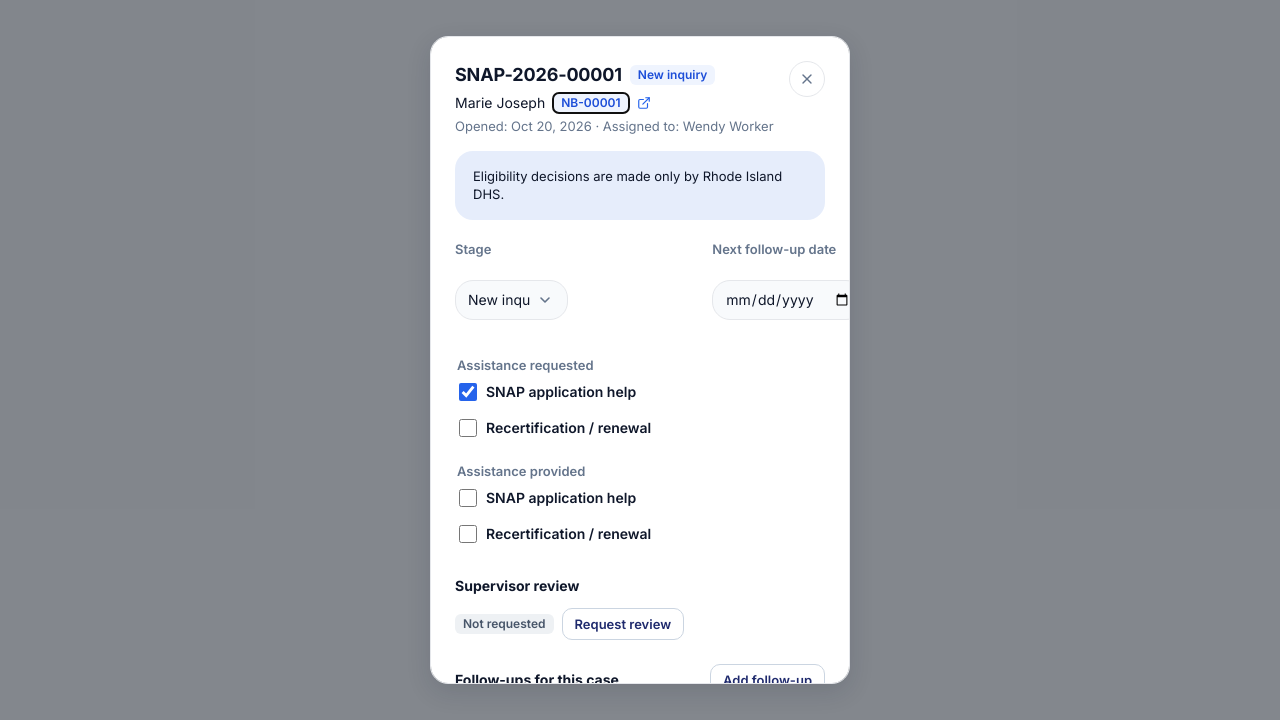
Test: SnapCaseDetail › blocks closing without a reason, then without supervisor approval
This screenshot has width=1280, height=720.
Select "Closed" in the dropdown labelled "Stage" at (511, 300), box [455,280,568,320]
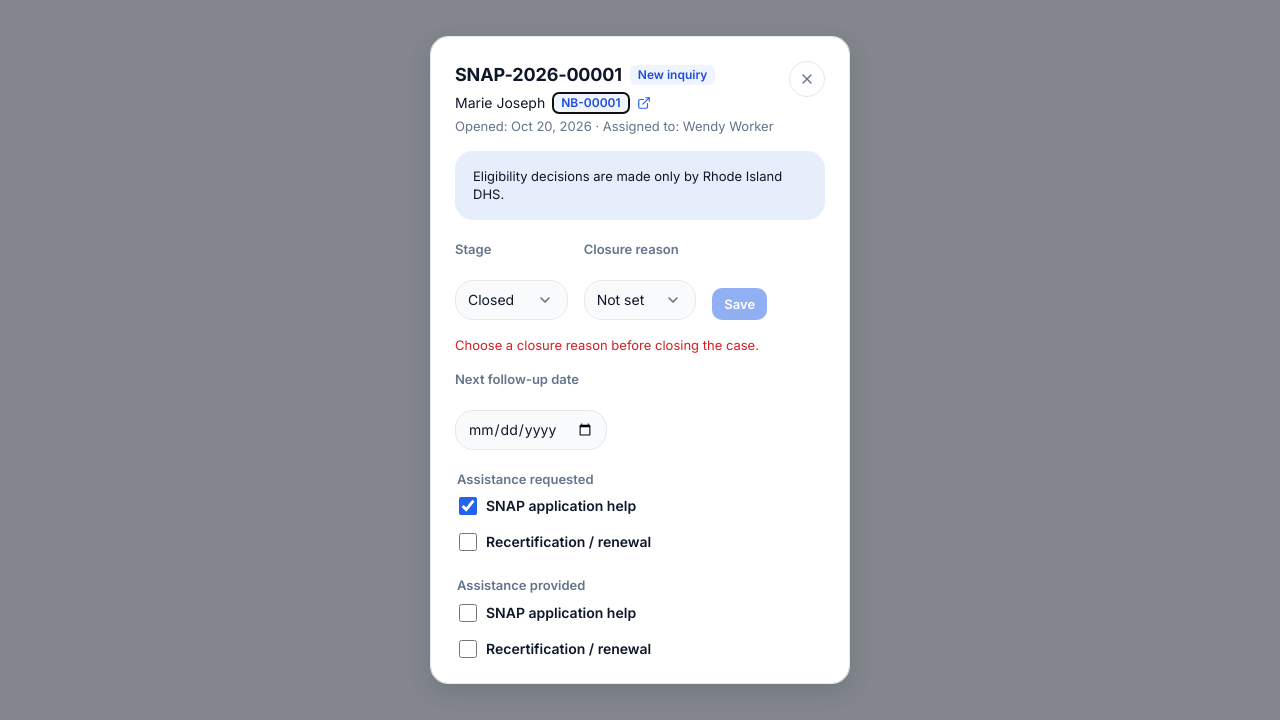
Check: the message reads "Choose a closure reason before closing the case.", box [455,337,759,353]
Check: the button "Save" is disabled, box [712,288,767,320]
Select "Assistance completed" in the dropdown labelled "Closure reason" at (640, 300), box [584,280,696,320]
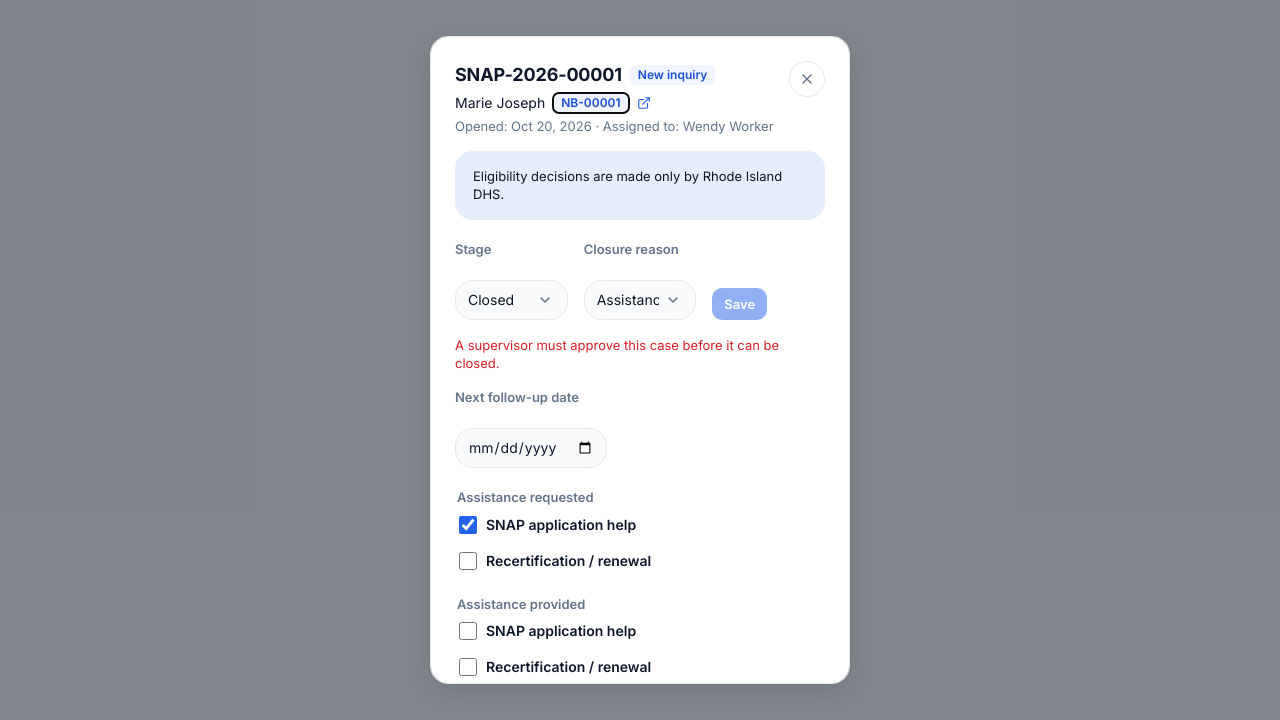
Check: the message reads "A supervisor must approve this case before it can be closed.", box [455,337,779,371]
